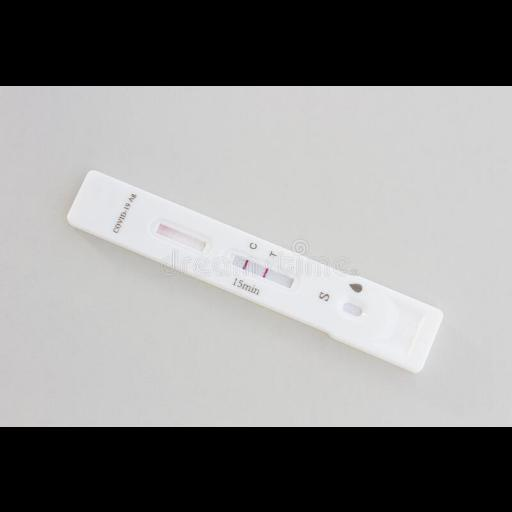Pos: (67, 169, 444, 372)
